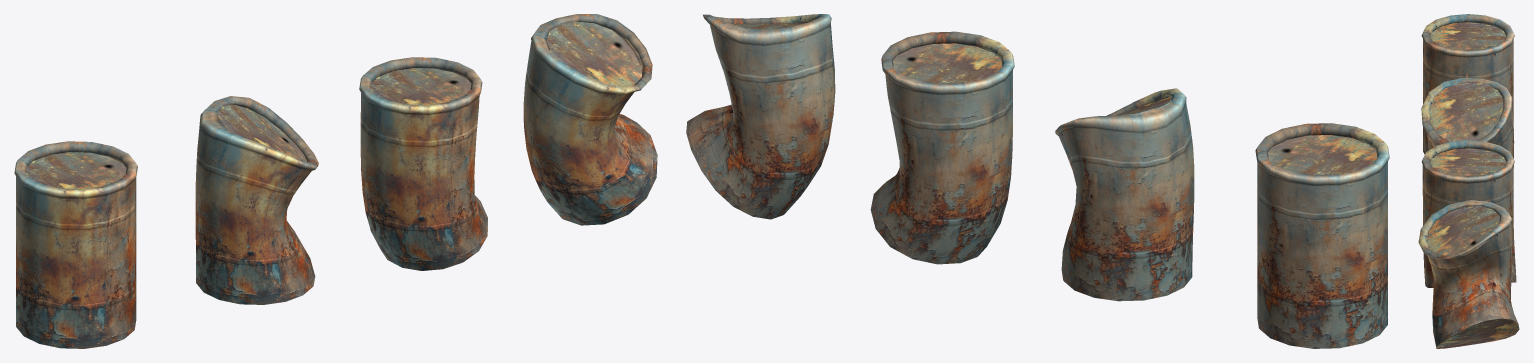
File: barrels.fbx
The picture shows the model from 3 angles, left to right: view 1: azimuth 30°, elevation 25°; view 2: azimuth 150°, elevation 25°; view 3: azimuth 270°, elevation 25°; orthographic projection. The views are drawn at different scales.
Parts seen in each view (by area): view 1: Cylinder, Cylinder.003, Cylinder.004, Cylinder.002; view 2: Cylinder, Cylinder.003, Cylinder.002, Cylinder.004; view 3: Cylinder.004, Cylinder.003, Cylinder, Cylinder.002.
Boxes of the visible parts, x1=… form: Cylinder: x1=14, y1=141, x2=137, y2=348; Cylinder.003: x1=359, y1=57, x2=487, y2=270; Cylinder.004: x1=523, y1=14, x2=657, y2=225; Cylinder.002: x1=195, y1=96, x2=318, y2=304; Cylinder: x1=1255, y1=123, x2=1389, y2=348; Cylinder.003: x1=870, y1=31, x2=1014, y2=264; Cylinder.002: x1=1055, y1=88, x2=1194, y2=301; Cylinder.004: x1=686, y1=14, x2=835, y2=219; Cylinder.004: x1=1418, y1=200, x2=1519, y2=348; Cylinder.003: x1=1421, y1=140, x2=1516, y2=287; Cylinder: x1=1421, y1=14, x2=1514, y2=154; Cylinder.002: x1=1421, y1=78, x2=1514, y2=167.
Bounding box in the file's own units: 420 × 117 × 77.84.
2 materials, 2 textured.
